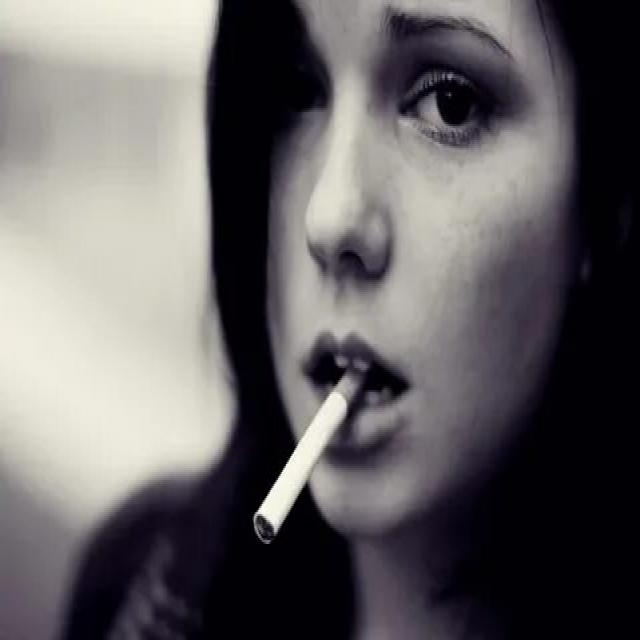cigarette: (251, 364, 366, 546)
